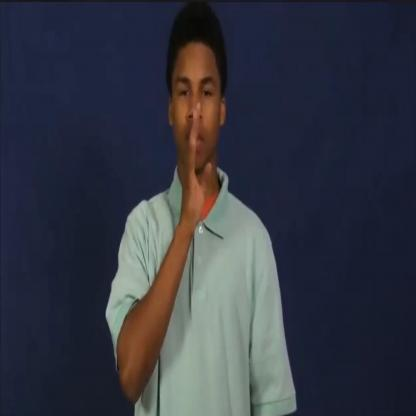Talk: (150, 4, 242, 270)
